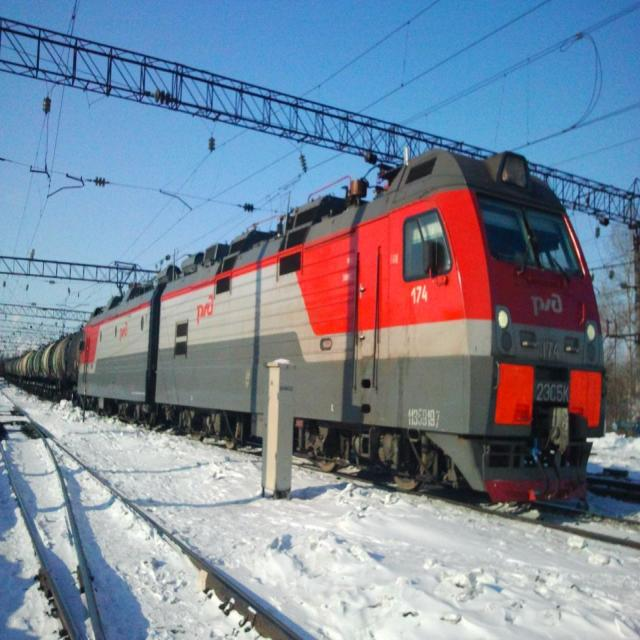trains: (0, 149, 606, 518)
